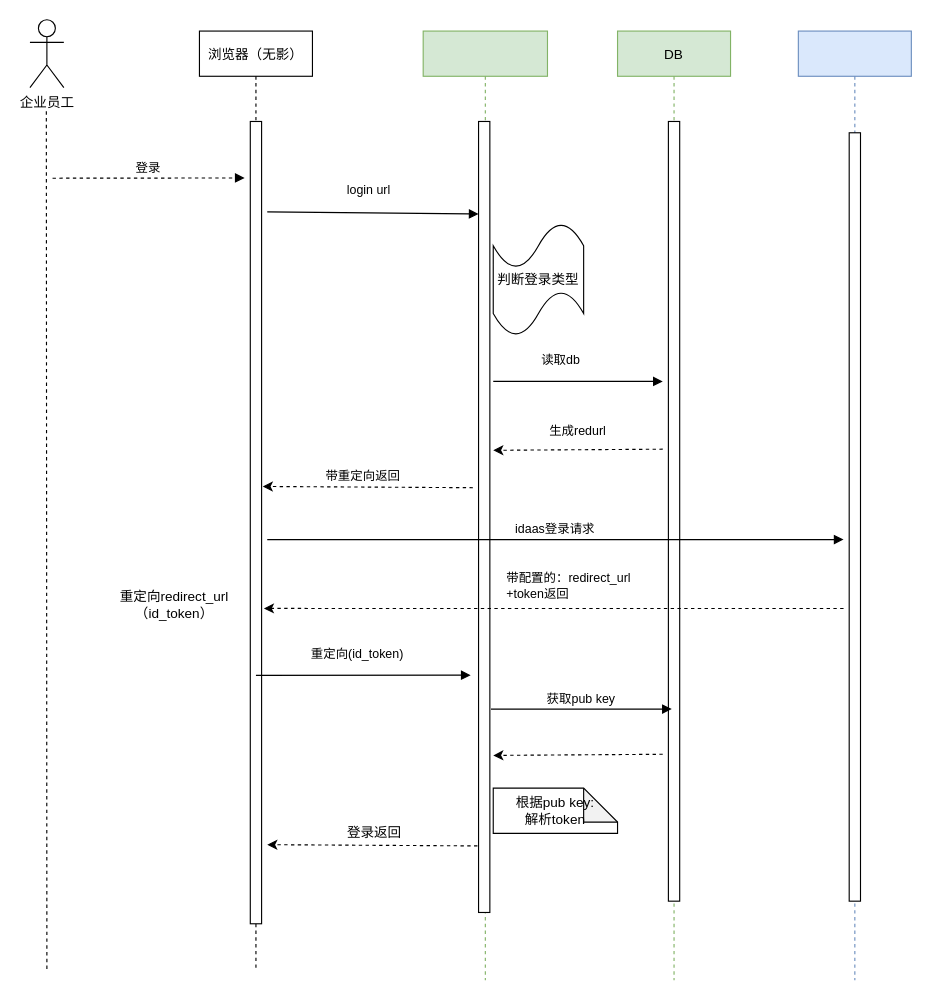
This 931x1000 diagram has some shape labels left out. The shapes that lost their labels are listed below. From the top down, each one's box as (x1, y1, x2, y2) in pixels, then its label:
(422, 30, 547, 980): 轻空间服务
(797, 30, 911, 980): IDaaS
